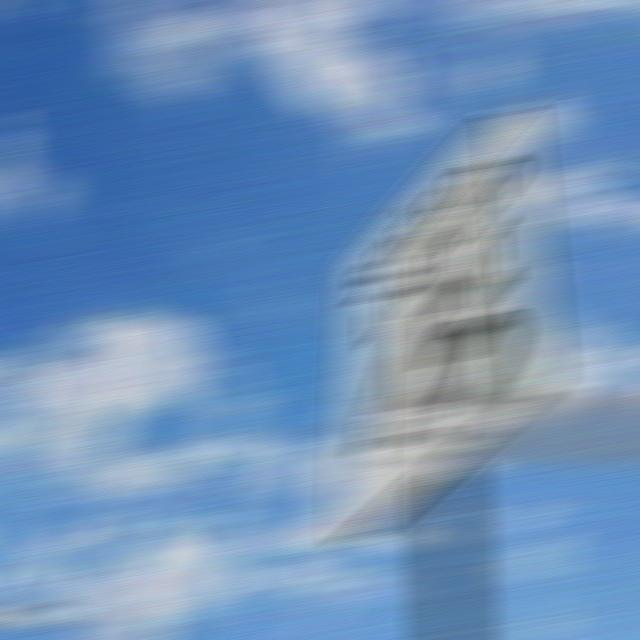speedLimit45: (336, 98, 542, 553)
